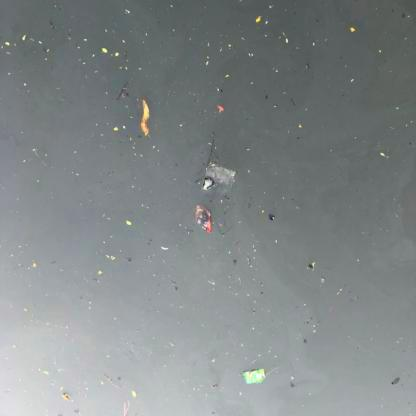Trash: (199, 159, 240, 197), (193, 201, 216, 238), (242, 365, 268, 388)
